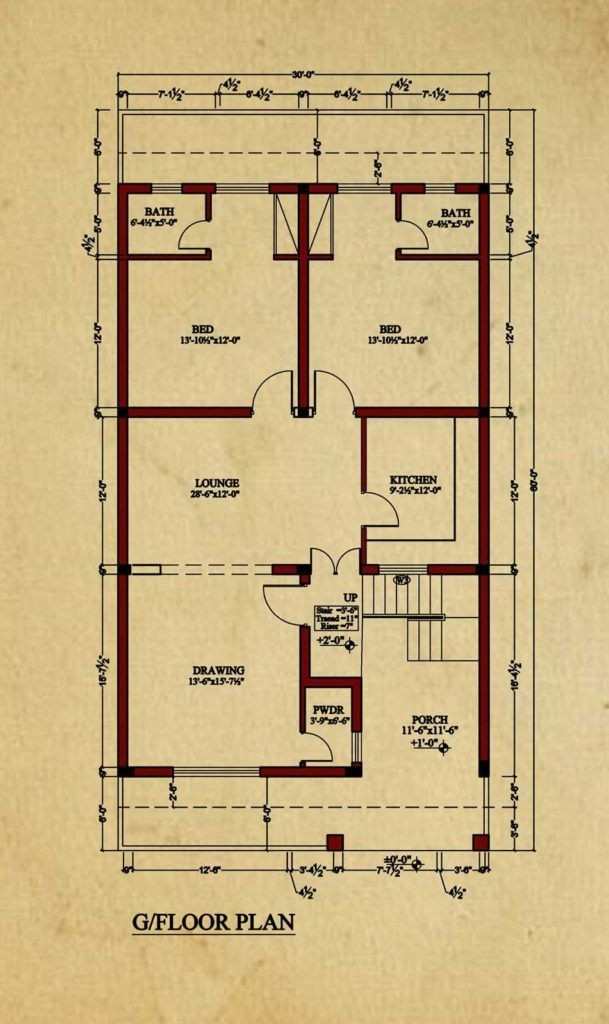door: (258, 578, 322, 632), (313, 361, 357, 428), (297, 532, 363, 575), (246, 366, 294, 422), (174, 207, 216, 258), (294, 722, 340, 767), (400, 214, 441, 261), (368, 491, 404, 535)
room: (111, 580, 349, 792), (122, 185, 302, 414), (108, 422, 361, 574), (307, 196, 482, 413), (368, 432, 486, 571)
wall: (108, 186, 146, 775), (471, 182, 499, 778), (461, 178, 494, 410), (293, 196, 321, 410), (133, 396, 249, 430), (347, 399, 485, 427), (265, 755, 365, 791), (350, 402, 486, 428), (118, 752, 179, 785), (269, 174, 346, 199), (110, 182, 135, 255), (294, 633, 313, 724), (432, 553, 485, 582), (357, 421, 377, 496), (347, 674, 369, 741), (300, 671, 363, 691), (110, 175, 150, 203), (275, 247, 332, 264), (271, 557, 307, 580), (360, 525, 374, 574), (185, 178, 215, 200), (394, 177, 418, 199)
window: (172, 767, 260, 785), (216, 175, 275, 200), (340, 174, 390, 200), (382, 558, 430, 578), (155, 175, 182, 203), (350, 733, 363, 767), (424, 180, 458, 192)
